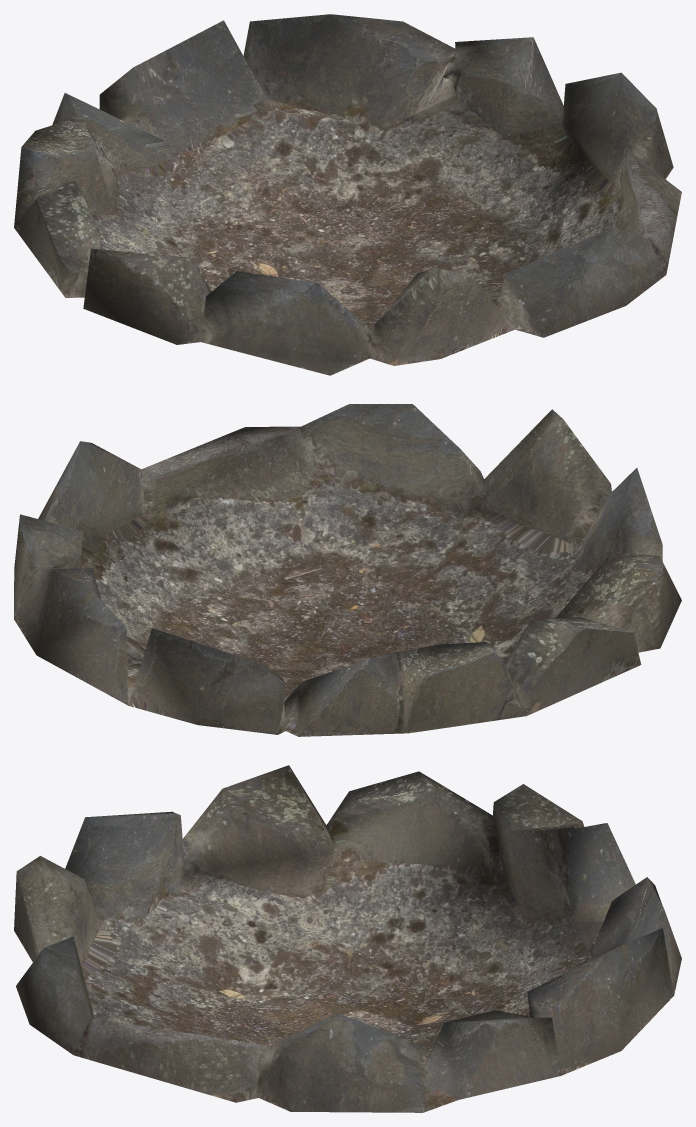
Rendered from campfire-lod.glb.
3 renders of one model, top to bottom at view 1: azimuth 30°, elevation 25°; view 2: azimuth 150°, elevation 25°; view 3: azimuth 270°, elevation 25°, orthographic.
Parts seen in each view (by area): view 1: stone_fire_pit; view 2: stone_fire_pit; view 3: stone_fire_pit.
Boxes of the visible parts, <box> form: stone_fire_pit: <box>14,14,681,375</box>; stone_fire_pit: <box>14,404,681,736</box>; stone_fire_pit: <box>14,765,681,1112</box>.
Size of the model in its own units: 1.44 by 0.376 by 1.41.
1 material, 1 textured.
